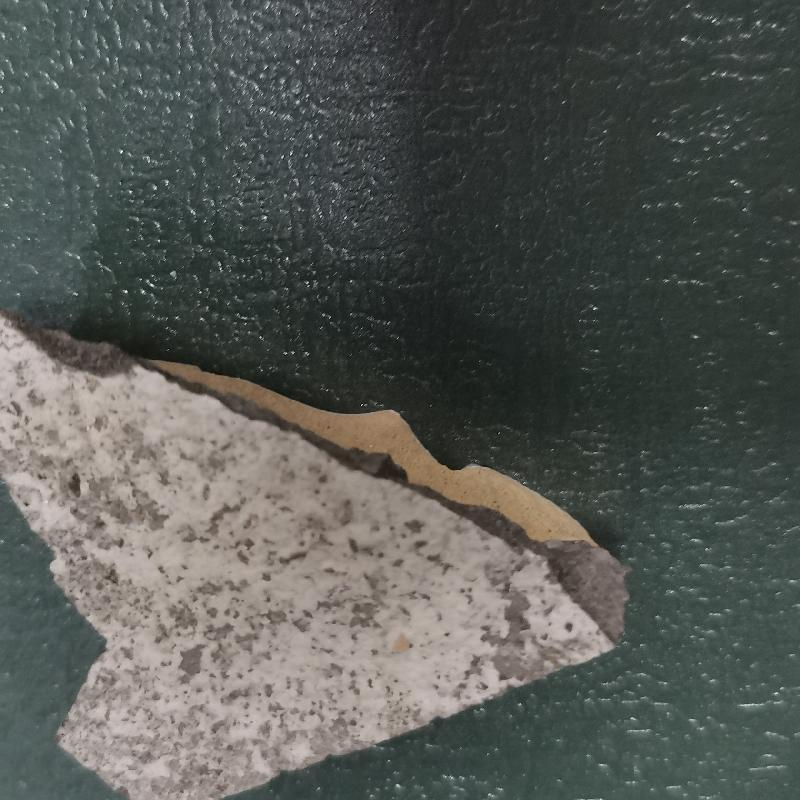tile: (1, 290, 632, 800)
